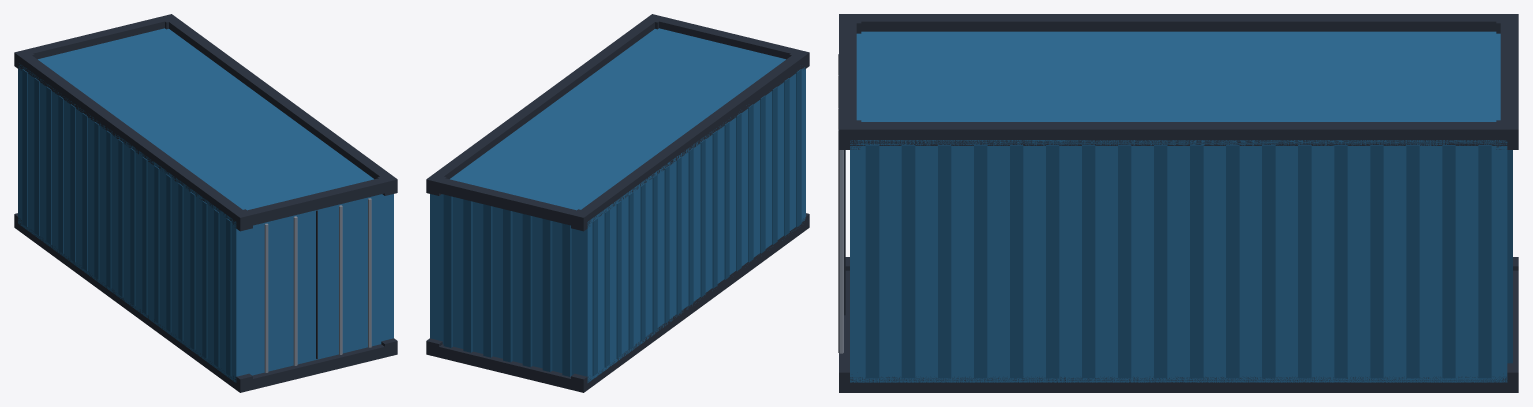
File: container_blue.glb
3 views of the same model, side by side, from view 1: azimuth 30°, elevation 25°; view 2: azimuth 150°, elevation 25°; view 3: azimuth 270°, elevation 25° (orthographic). The views are drawn at different scales.
Visible parts, largest first — view 1: container; view 2: container; view 3: container.
Boxes of the visible parts, x1,y1,x2,y2 form: container: (14,14,397,392); container: (426,14,809,392); container: (838,14,1518,392).
Size of the model in its own units: 2.46 by 2.59 by 6.07.
